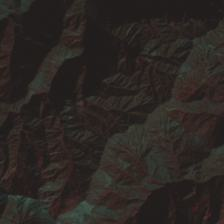landslides: (154, 137, 171, 152), (180, 76, 194, 91), (182, 68, 196, 80), (38, 189, 59, 195), (204, 47, 209, 68)
